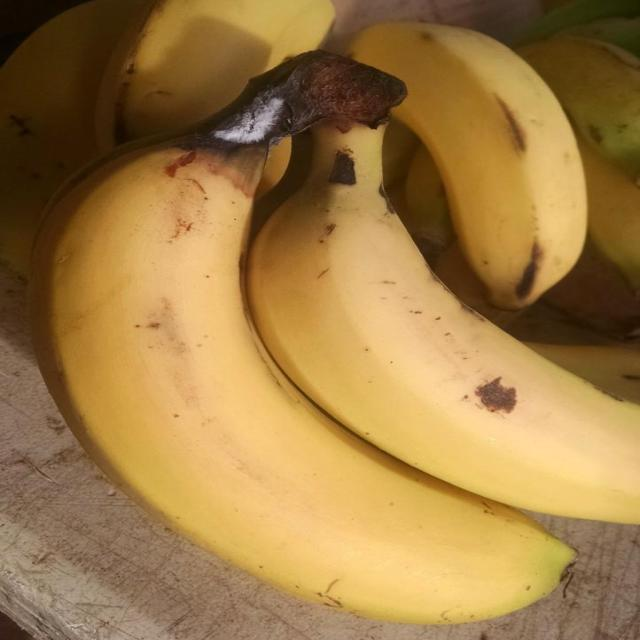banana: (27, 142, 576, 628), (243, 124, 640, 529)
